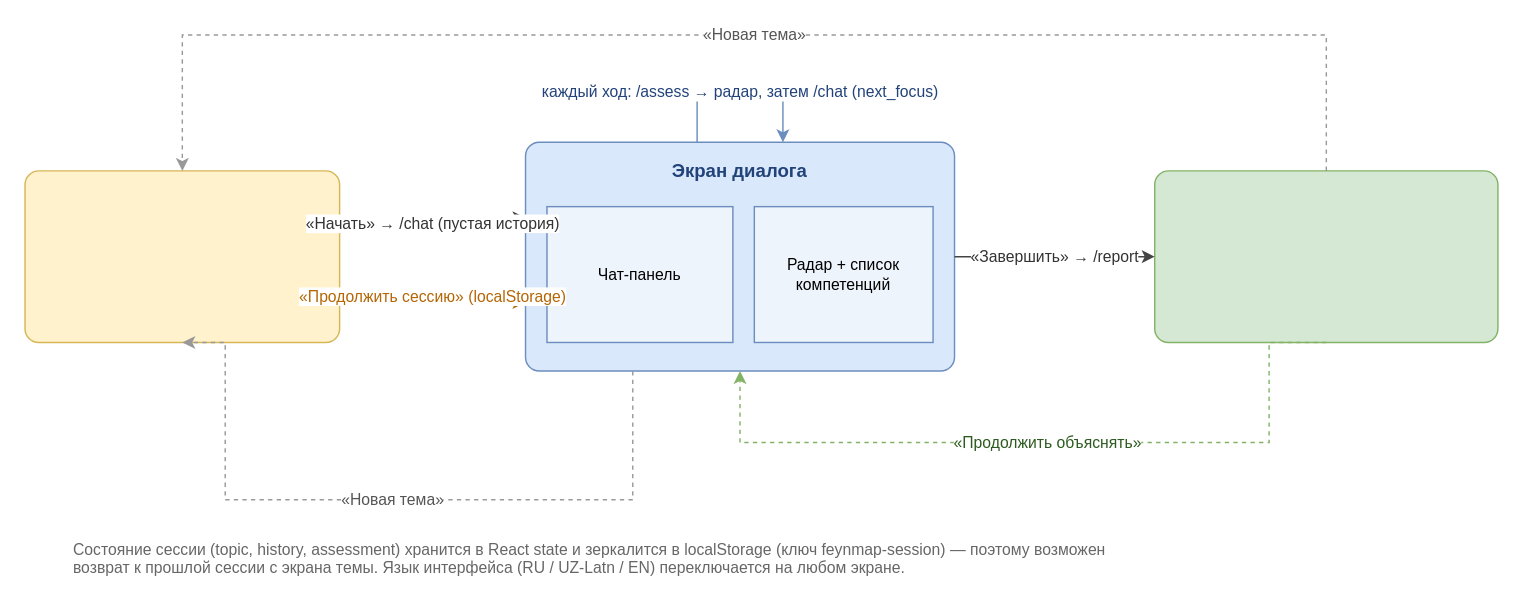
Some shapes in this 1523 by 611 pixel diagram are drawn without their labels. The shapes that lost their labels are listed below. From the top down, each one's centre as x and y in pixels, then its label:
At pixel 182 255: "Экран темы ввод темы + примеры-чипы; опц. «Продолжить сессию»".
At pixel 1325 255: "Экран отчёта итоговый радар + балл, пробелы, рекомендации".
